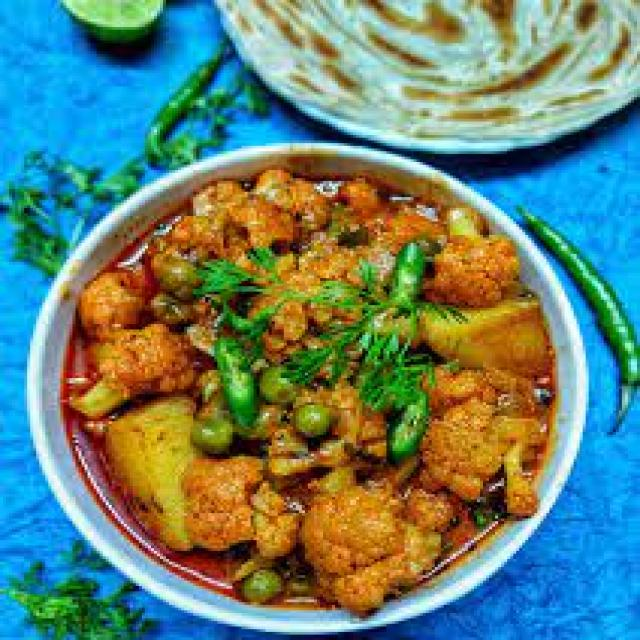Aloo Gobi: (92, 184, 506, 581)
